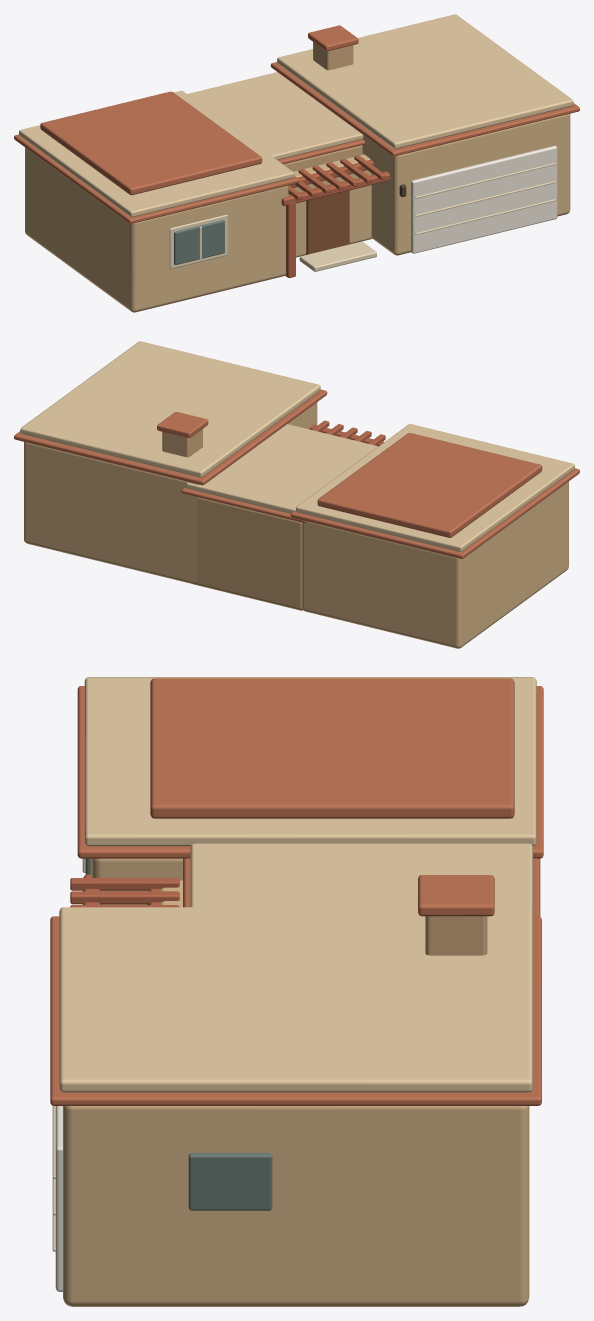
Rendered from house.glb.
3 views of the same model, one above another, from view 1: azimuth 30°, elevation 25°; view 2: azimuth 150°, elevation 25°; view 3: azimuth 270°, elevation 25° (orthographic). The views are drawn at different scales.
Parts seen in each view (by area): view 1: GarageRoof, LeftWing, LeftWingTileRidge, GarageDoor, GarageWing, EntryCoreRoof, LeftWingRoof, GarageParapetTrim, EntryGate, EntryCourtWall, LeftWingTrim, WingWindow (+8 smaller); view 2: LeftWing, GarageRoof, GarageWing, LeftWingTileRidge, EntryCore, EntryCoreRoof, LeftWingRoof, GarageParapetTrim, LeftWingTrim, ChimneyCap, Chimney, EntryCoreTrim; view 3: GarageWing, GarageRoof, LeftWingTileRidge, LeftWingRoof, EntryCoreRoof, GarageParapetTrim, GarageSideWindow, LeftWingTrim, ChimneyCap, Chimney, LeftWing, GarageDoor (+3 smaller).
Part boxes in pixels (bbox=[...]): GarageRoof: bbox=[277, 14, 573, 148]; LeftWing: bbox=[25, 147, 288, 312]; LeftWingTileRidge: bbox=[40, 91, 262, 195]; GarageDoor: bbox=[411, 145, 557, 253]; GarageWing: bbox=[362, 113, 570, 255]; EntryCoreRoof: bbox=[187, 72, 363, 159]; LeftWingRoof: bbox=[19, 90, 294, 217]; GarageParapetTrim: bbox=[270, 62, 579, 156]; EntryGate: bbox=[306, 181, 349, 254]; EntryCourtWall: bbox=[288, 154, 372, 257]; LeftWingTrim: bbox=[14, 134, 299, 223]; WingWindow: bbox=[174, 220, 224, 264]; LeftWing: bbox=[302, 481, 568, 648]; GarageRoof: bbox=[20, 341, 320, 477]; GarageWing: bbox=[24, 402, 317, 583]; LeftWingTileRidge: bbox=[317, 433, 542, 537]; EntryCore: bbox=[192, 497, 302, 610]; EntryCoreRoof: bbox=[186, 424, 378, 513]; LeftWingRoof: bbox=[296, 424, 574, 552]; GarageParapetTrim: bbox=[14, 389, 327, 485]; LeftWingTrim: bbox=[290, 468, 579, 558]; ChimneyCap: bbox=[157, 412, 208, 437]; Chimney: bbox=[162, 429, 202, 457]; EntryCoreTrim: bbox=[181, 488, 307, 522]; GarageWing: bbox=[63, 1106, 529, 1306]; GarageRoof: bbox=[59, 907, 532, 1092]; LeftWingTileRidge: bbox=[150, 678, 514, 818]; LeftWingRoof: bbox=[84, 677, 536, 846]; EntryCoreRoof: bbox=[190, 843, 532, 910]; GarageParapetTrim: bbox=[50, 916, 541, 1105]; GarageSideWindow: bbox=[188, 1153, 272, 1210]; LeftWingTrim: bbox=[77, 686, 543, 858]; ChimneyCap: bbox=[418, 875, 494, 916]; Chimney: bbox=[425, 916, 487, 955]; LeftWing: bbox=[92, 858, 182, 904]; GarageDoor: bbox=[55, 1106, 62, 1291].
Size of the model in its own units: 14.07 by 4.29 by 6.78.
